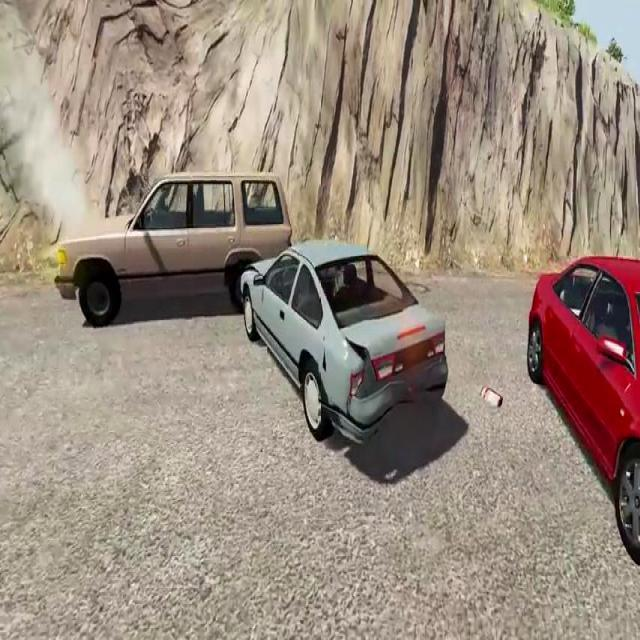moderate: (51, 158, 454, 458)
